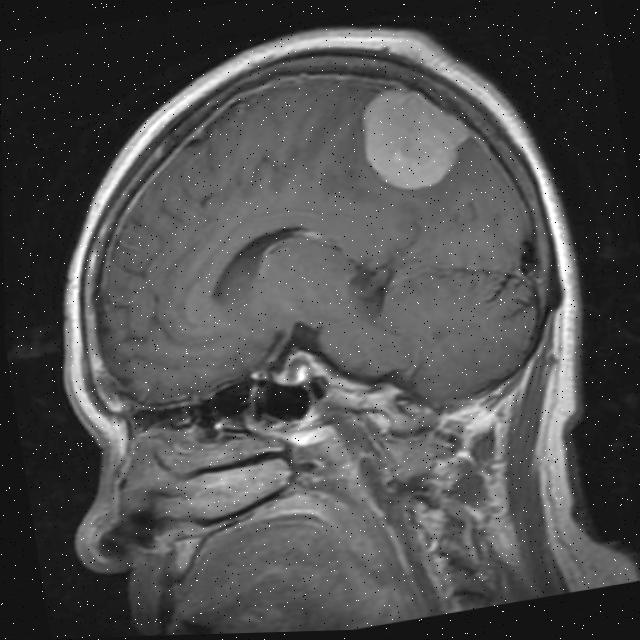Meningioma: (353, 76, 478, 198)
Pituitary: (277, 348, 319, 390)
